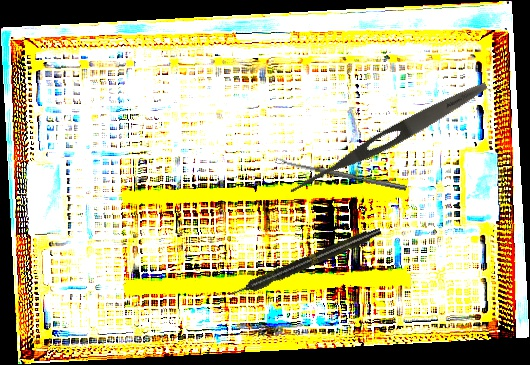Dressing Forceps: (286, 76, 491, 202)
Handpiece: (224, 224, 384, 302)
Surgical Spoon: (274, 157, 408, 191)
